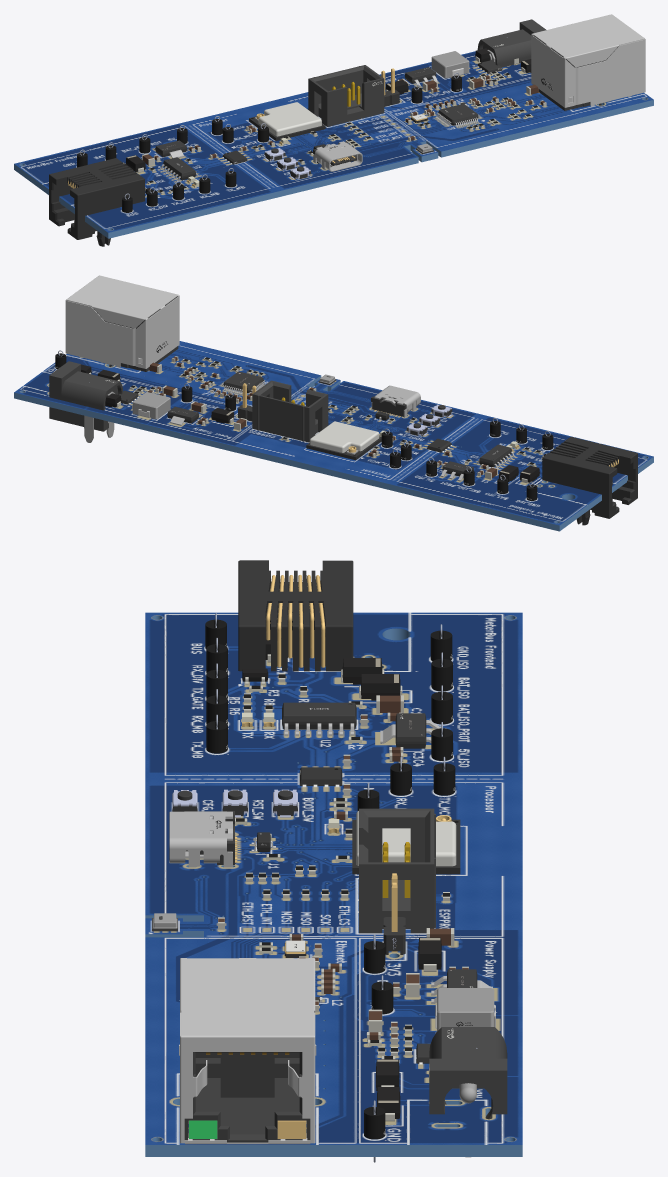
File: eveningstar-blue.glb
The picture shows the model from 3 angles, top to bottom: view 1: azimuth 30°, elevation 25°; view 2: azimuth 150°, elevation 25°; view 3: azimuth 270°, elevation 25°; orthographic projection. The views are drawn at different scales.
Parts seen in each view (by area): view 1: =>[0:1:1:54], =>[0:1:1:27], =>[0:1:1:11], =>[0:1:1:25], =>[0:1:1:3], =>[0:1:1:5], =>[0:1:1:7], =>[0:1:1:23], =>[0:1:1:31], =>[0:1:1:9]; view 2: =>[0:1:1:54], =>[0:1:1:27], =>[0:1:1:11], =>[0:1:1:25], =>[0:1:1:3], =>[0:1:1:5], =>[0:1:1:31], =>[0:1:1:7], =>[0:1:1:23], =>[0:1:1:9]; view 3: =>[0:1:1:54], =>[0:1:1:27], =>[0:1:1:11], =>[0:1:1:3], =>[0:1:1:25], =>[0:1:1:5], =>[0:1:1:31], =>[0:1:1:23], =>[0:1:1:7], =>[0:1:1:9].
Boxes of the visible parts, left/top/right/bottom form: =>[0:1:1:54]: left=14, top=51, right=653, bottom=238; =>[0:1:1:27]: left=531, top=14, right=645, bottom=110; =>[0:1:1:11]: left=49, top=58, right=469, bottom=246; =>[0:1:1:25]: left=308, top=19, right=546, bottom=154; =>[0:1:1:3]: left=77, top=56, right=552, bottom=212; =>[0:1:1:5]: left=153, top=44, right=503, bottom=181; =>[0:1:1:7]: left=143, top=75, right=544, bottom=164; =>[0:1:1:23]: left=431, top=51, right=469, bottom=78; =>[0:1:1:31]: left=123, top=48, right=531, bottom=171; =>[0:1:1:9]: left=264, top=148, right=310, bottom=178; =>[0:1:1:54]: left=14, top=341, right=653, bottom=531; =>[0:1:1:27]: left=65, top=275, right=179, bottom=371; =>[0:1:1:11]: left=132, top=383, right=637, bottom=525; =>[0:1:1:25]: left=49, top=361, right=336, bottom=442; =>[0:1:1:3]: left=55, top=341, right=553, bottom=500; =>[0:1:1:5]: left=56, top=367, right=547, bottom=499; =>[0:1:1:31]: left=81, top=364, right=539, bottom=482; =>[0:1:1:7]: left=148, top=357, right=496, bottom=478; =>[0:1:1:23]: left=133, top=392, right=389, bottom=420; =>[0:1:1:9]: left=406, top=404, right=451, bottom=435; =>[0:1:1:54]: left=145, top=612, right=522, bottom=1156; =>[0:1:1:27]: left=179, top=958, right=316, bottom=1144; =>[0:1:1:11]: left=169, top=560, right=494, bottom=1138; =>[0:1:1:3]: left=205, top=619, right=472, bottom=1139; =>[0:1:1:25]: left=152, top=808, right=507, bottom=1157; =>[0:1:1:5]: left=172, top=643, right=492, bottom=1134; =>[0:1:1:31]: left=265, top=639, right=441, bottom=1118; =>[0:1:1:23]: left=251, top=833, right=495, bottom=1028; =>[0:1:1:7]: left=218, top=695, right=468, bottom=1039; =>[0:1:1:9]: left=172, top=789, right=297, bottom=817.
Bounding box in the file's own units: 0.1477 × 0.0232 × 0.0436.
37 materials, 2 textured.
